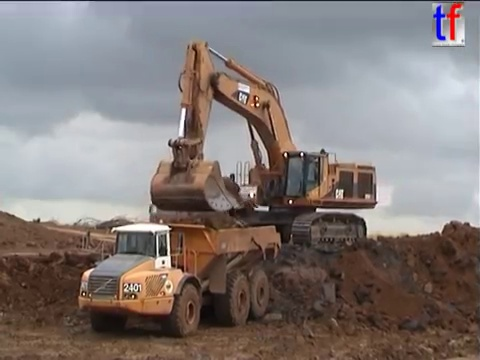excavator: (146, 38, 381, 255)
truck: (75, 219, 283, 339), (146, 194, 279, 255)
